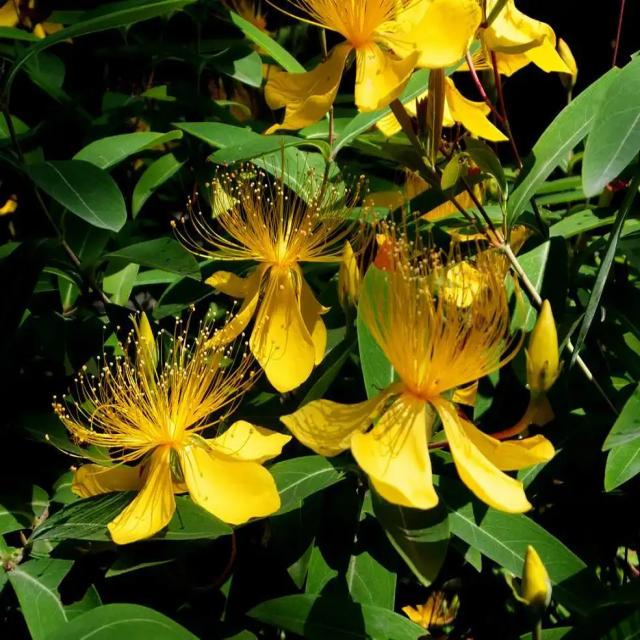jinsitao: (329, 187, 590, 550), (19, 304, 316, 615), (197, 2, 638, 194), (169, 115, 362, 395)
